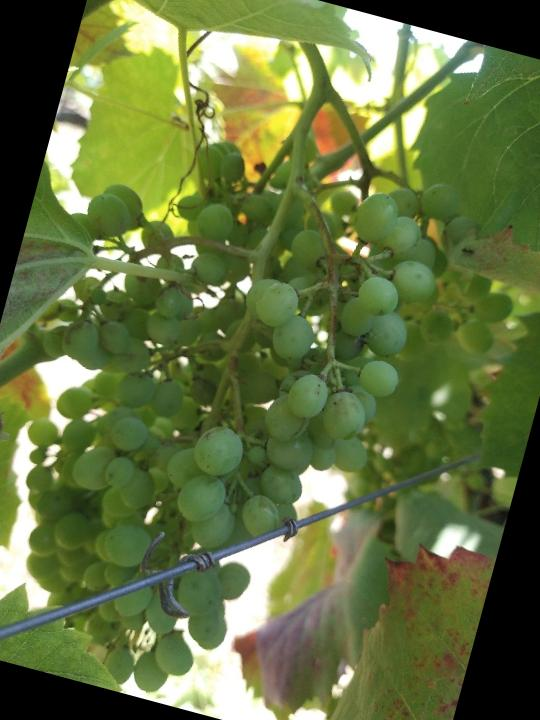grape: (0, 81, 540, 720)
